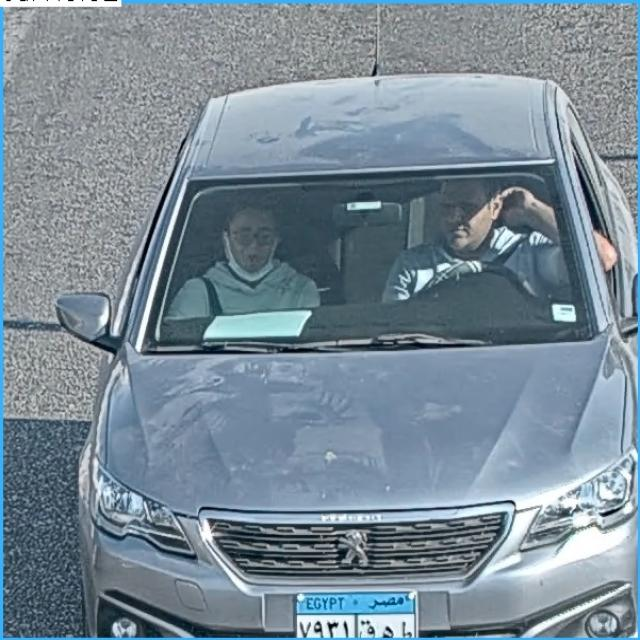windshield: (143, 177, 602, 350)
